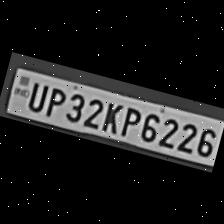2: (80, 92, 108, 128), (154, 112, 182, 148), (173, 117, 200, 153)
3: (60, 86, 88, 124)
6: (191, 122, 220, 159), (135, 106, 163, 144)
K: (99, 96, 125, 134)
P: (41, 82, 68, 119), (115, 101, 142, 138)
U: (22, 76, 50, 113)
